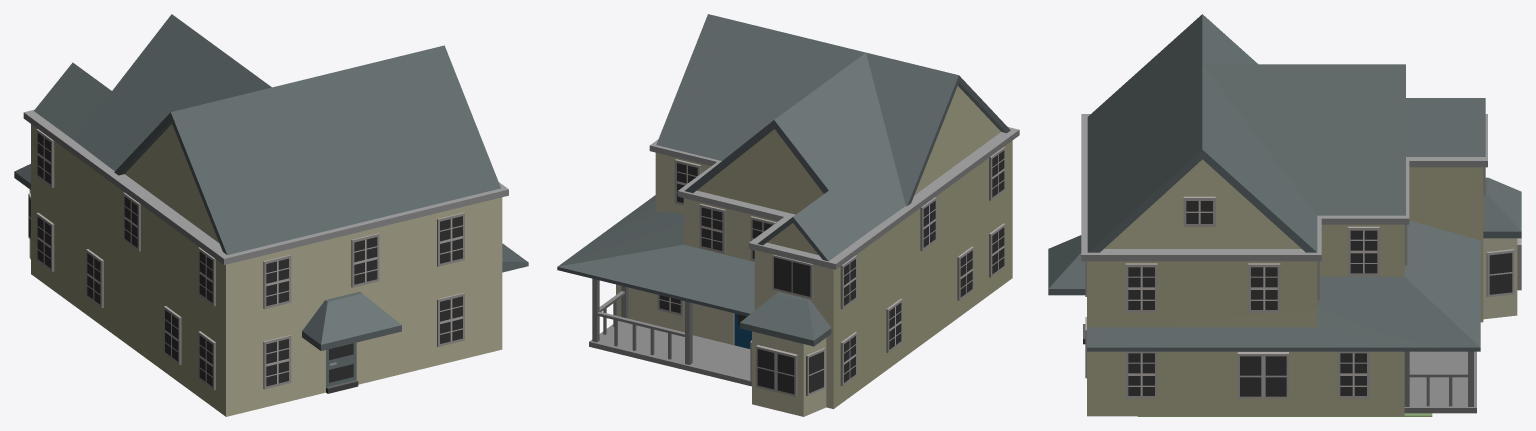
The model's file is villa.glb.
The picture shows the model from 3 angles, left to right: view 1: azimuth 30°, elevation 25°; view 2: azimuth 150°, elevation 25°; view 3: azimuth 270°, elevation 25°; orthographic projection. The views are drawn at different scales.
Visible parts, largest first — view 1: Villa; view 2: Villa; view 3: Villa.
Part boxes in pixels (left/top/right/bottom): Villa: left=14, top=14, right=528, bottom=416; Villa: left=557, top=14, right=1019, bottom=416; Villa: left=1048, top=14, right=1521, bottom=416.
Bounding box in the file's own units: 39.13 × 32.1 × 51.42.
2 materials, 1 textured.
